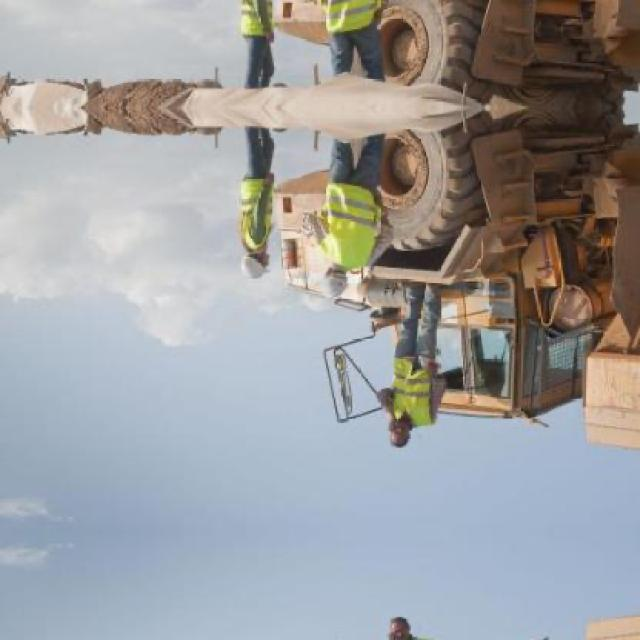con casco: (214, 229, 293, 299), (300, 240, 368, 314)
sin casco: (355, 393, 429, 464)
